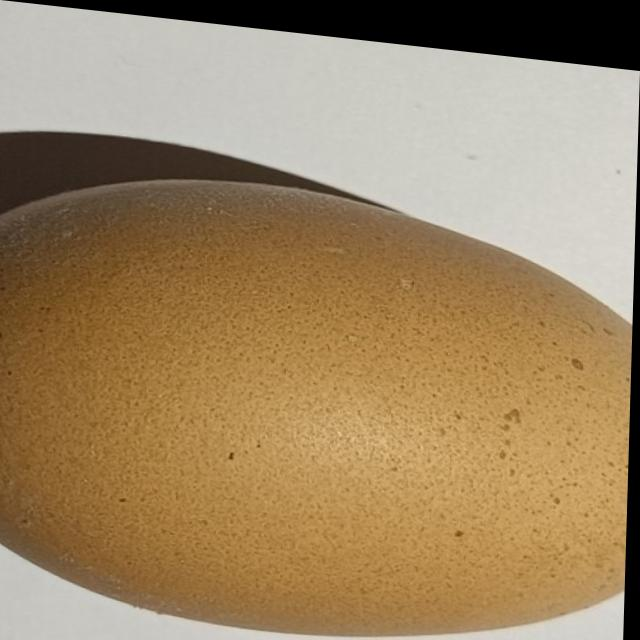unfresh: (0, 149, 637, 640)
